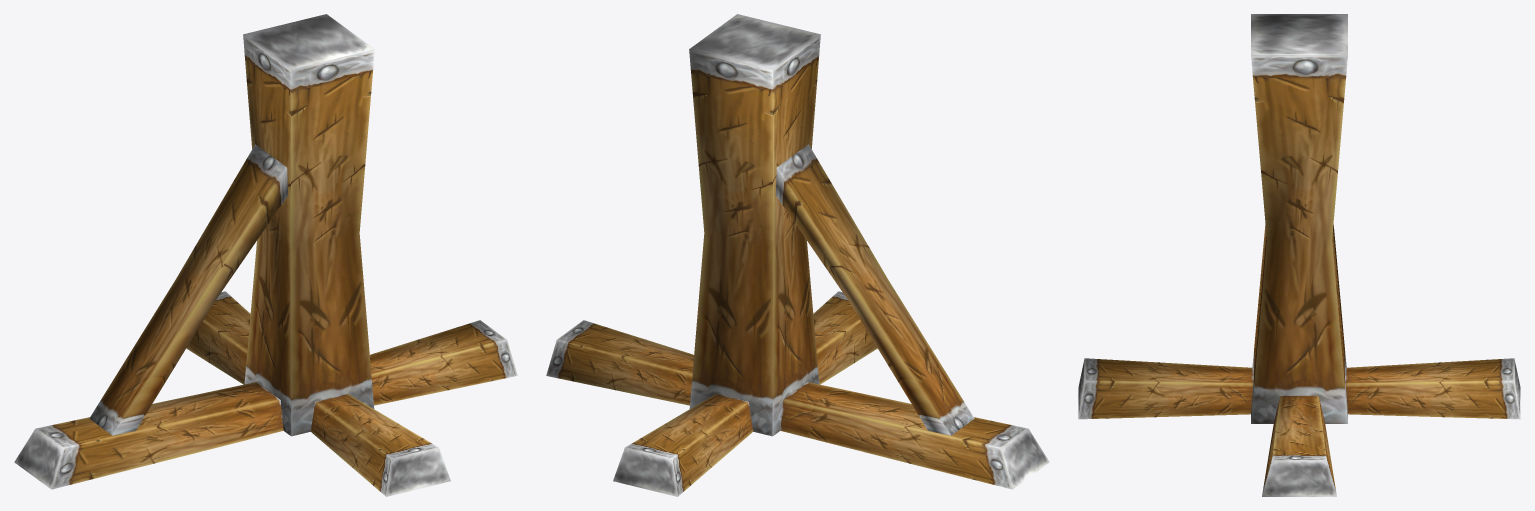
Rendered from guntargetstand.obj.
3 views of the same model, side by side, from view 1: azimuth 30°, elevation 25°; view 2: azimuth 150°, elevation 25°; view 3: azimuth 270°, elevation 25° (orthographic).
Visible parts, largest first — view 1: guntargetstand; view 2: guntargetstand; view 3: guntargetstand.
Boxes of the visible parts, x1,y1,x2,y2 form: guntargetstand: (14, 14, 517, 496); guntargetstand: (546, 14, 1049, 496); guntargetstand: (1078, 14, 1520, 496).
Size of the model in its own units: 2.65 by 1.99 by 2.16.
Materials: 1 (1 with a texture image).
